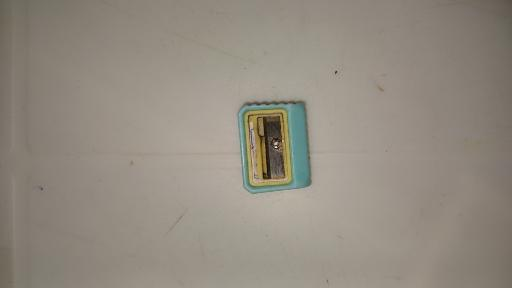Sharpener: (240, 100, 308, 194)
